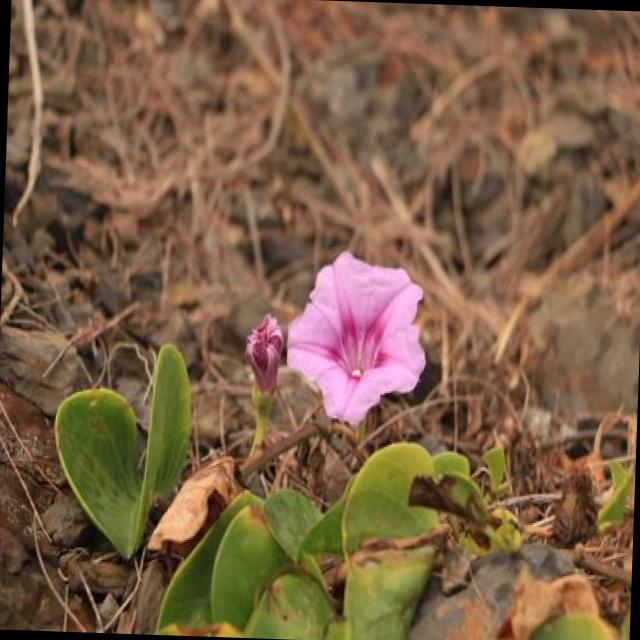ipomoea: (280, 245, 432, 432), (240, 308, 288, 401)
